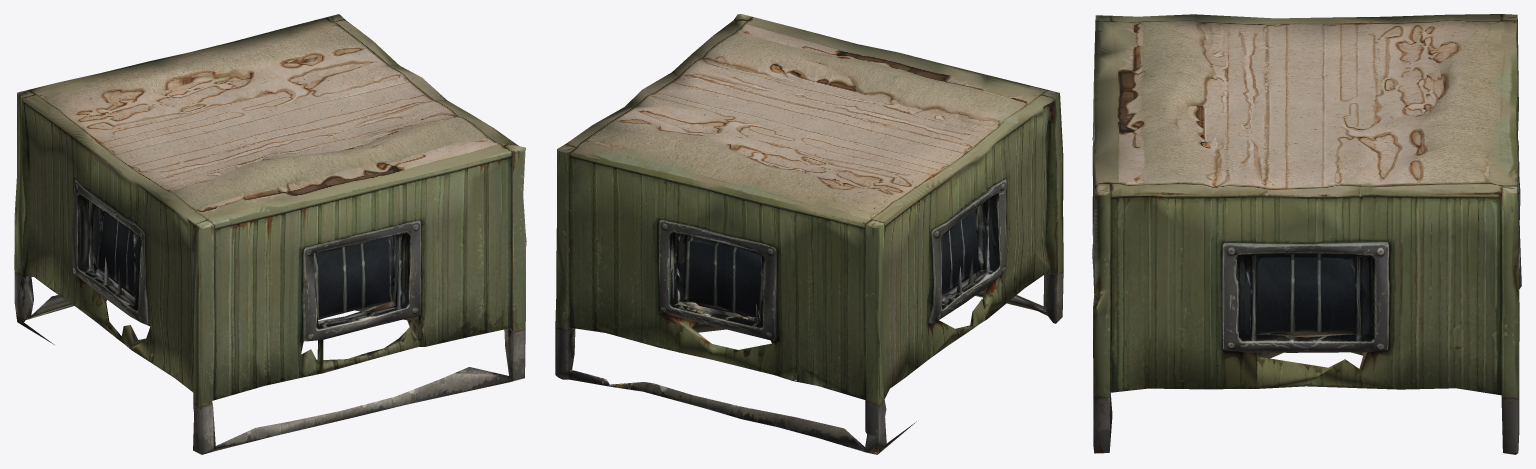
File: EX_Mil_WallWindow.fbx
The picture shows the model from 3 angles, left to right: view 1: azimuth 30°, elevation 25°; view 2: azimuth 150°, elevation 25°; view 3: azimuth 270°, elevation 25°; orthographic projection. The views are drawn at different scales.
Parts seen in each view (by area): view 1: texture_mapping; view 2: texture_mapping; view 3: texture_mapping.
Part boxes in pixels (x1=…): texture_mapping: x1=14, y1=14, x2=526, y2=454; texture_mapping: x1=555, y1=14, x2=1063, y2=454; texture_mapping: x1=1092, y1=14, x2=1521, y2=454.
Bounding box in the file's own units: 0.9919 × 0.9885 × 0.7005.
Materials: 1 (1 with a texture image).
